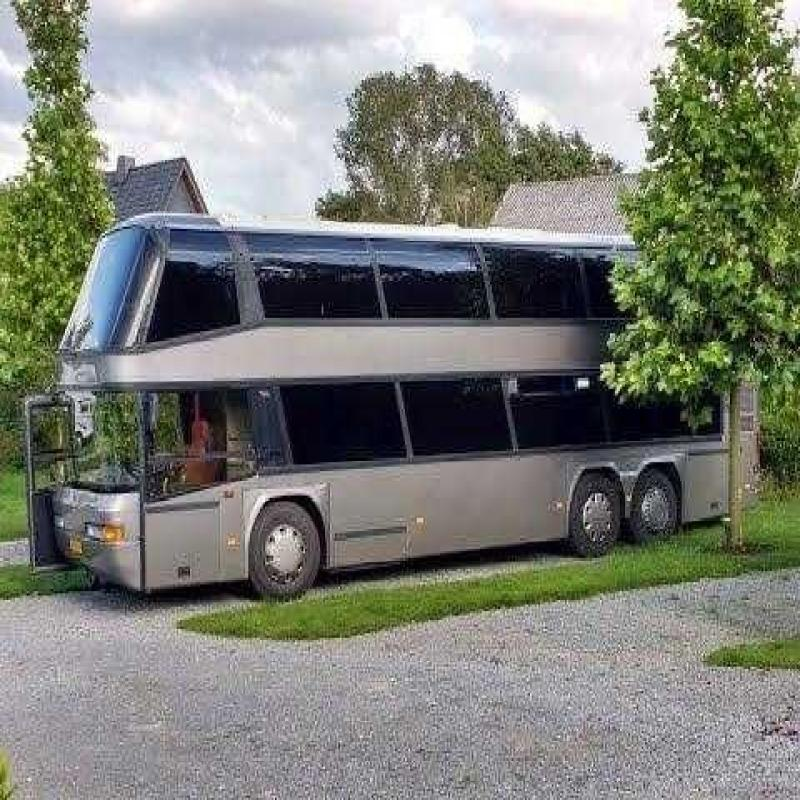bus: (49, 180, 747, 600)
